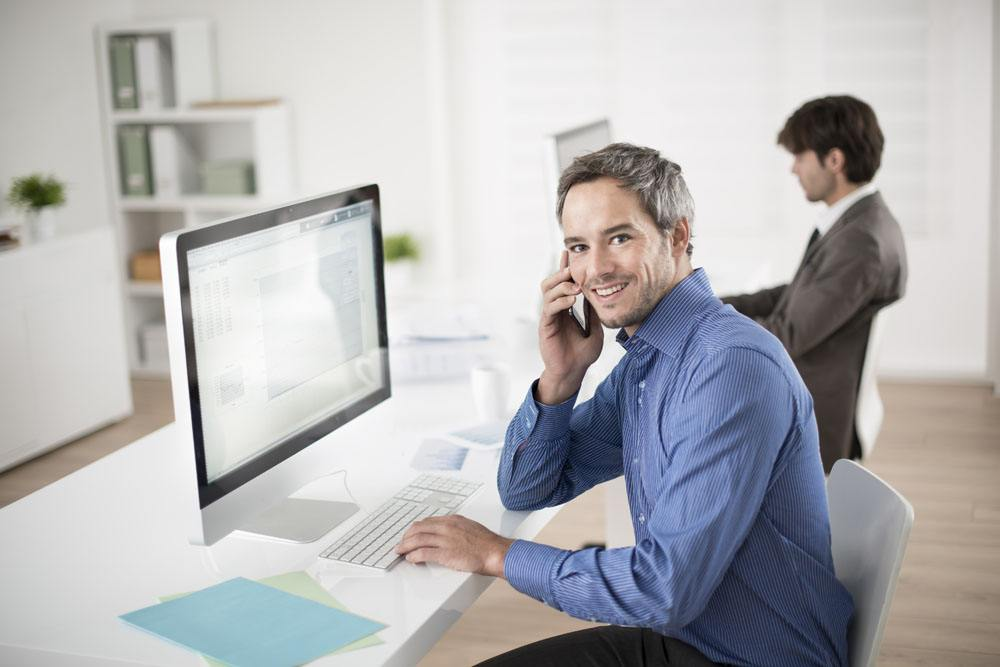calling: (534, 247, 606, 374)
